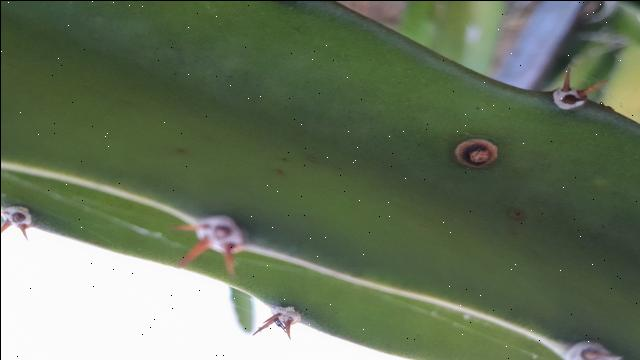stemcanker: (451, 137, 501, 170)
